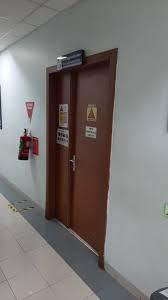exit: (48, 54, 115, 262)
unlit_exit_sign: (56, 50, 83, 71)
